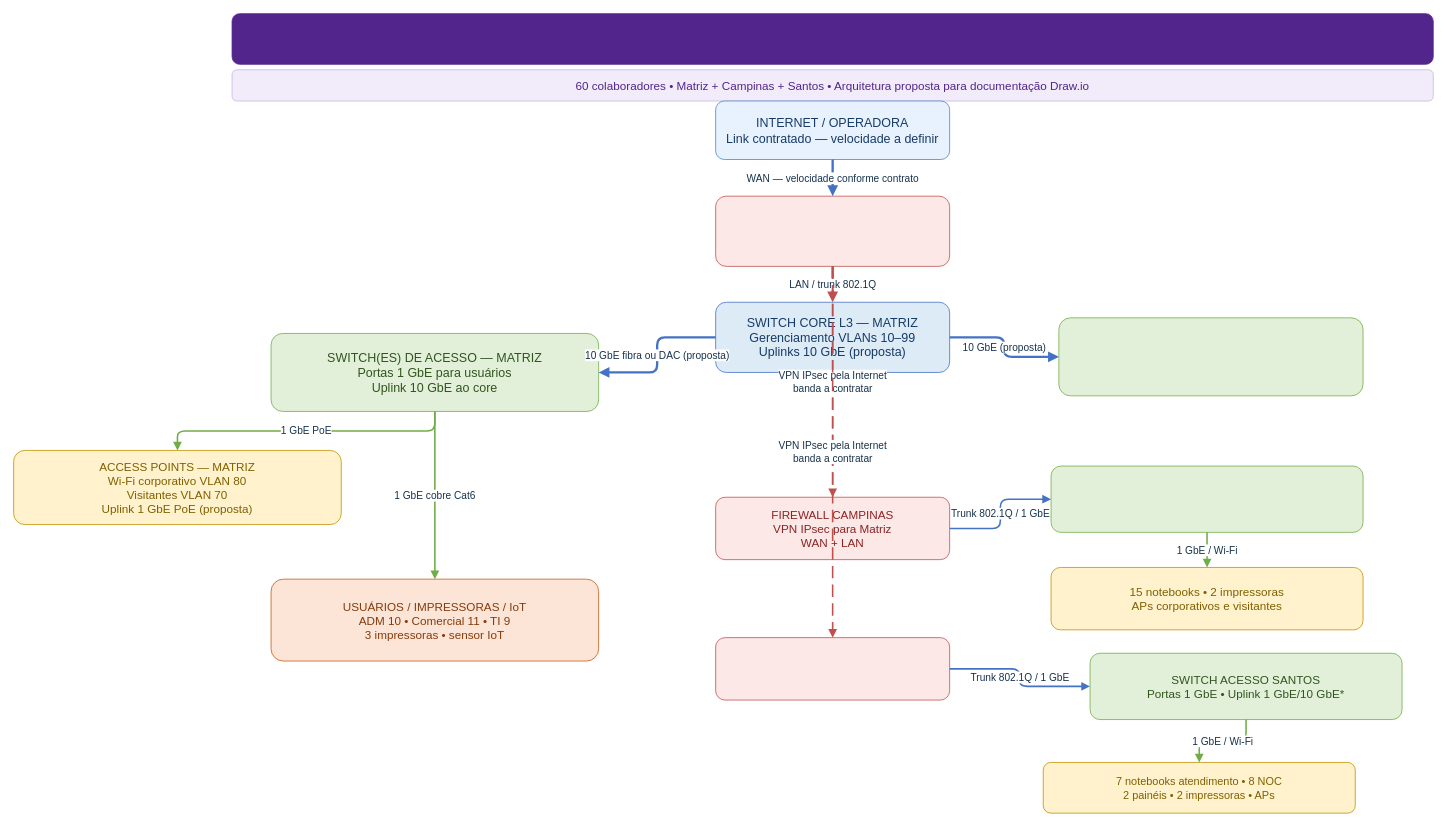
The diagram is 1447 pixels wide and 827 high, and some of its shapes have lost their labels. The centre of each missing label's shape, as x and y in pixels:
"ETAPA 2 — TOPOLOGIA FÍSICA | TECHSTORE SOLUTIONS" goes at (832,38).
"FIREWALL MATRIZ VPN IPsec site-to-site Interfaces WAN + LAN" goes at (832,230).
"FIREWALL SANTOS VPN IPsec para Matriz WAN + LAN" goes at (832,668).
"RACK / SERVIDORES 3 servidores • VLAN 40 2×10 GbE por servidor (proposta)" goes at (1210,356).
"SWITCH ACESSO CAMPINAS Portas 1 GbE • Uplink 1 GbE/10 GbE*" goes at (1206,498).
